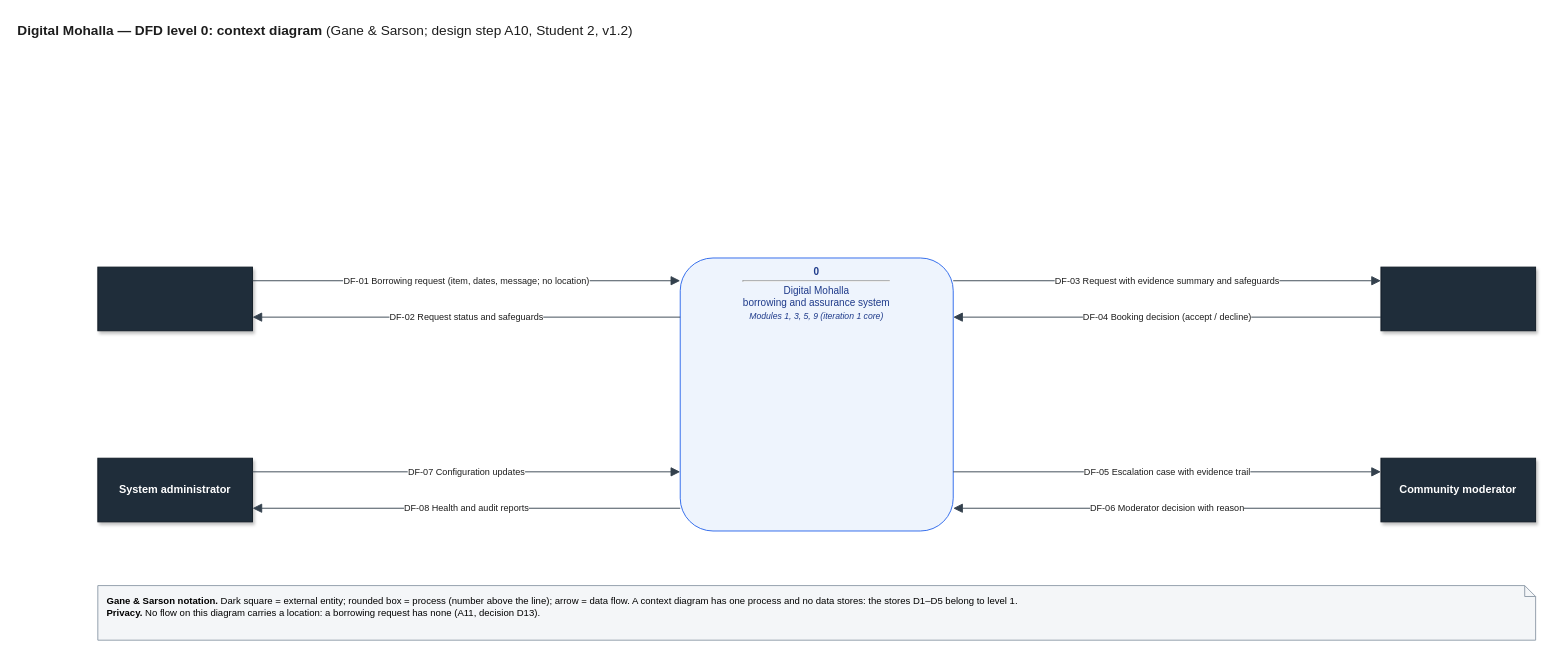
This 1557x656 diagram has some shape labels left out. Each missing label, with the centre of its shape:
Borrower: (x=175, y=300)
Lender: (x=1458, y=300)
